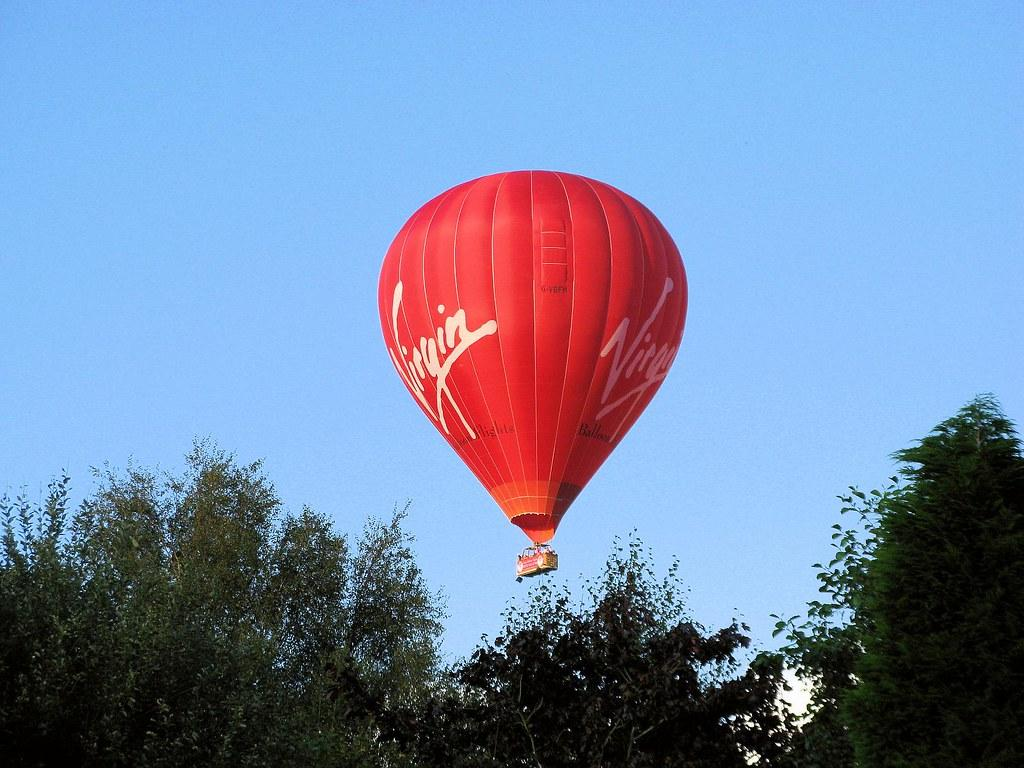balloon: (377, 169, 689, 582)
